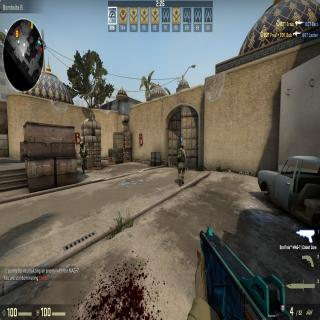CT-Body: (178, 143, 185, 185), (80, 140, 86, 173)
CT-Head: (79, 138, 84, 150), (179, 143, 184, 151)
